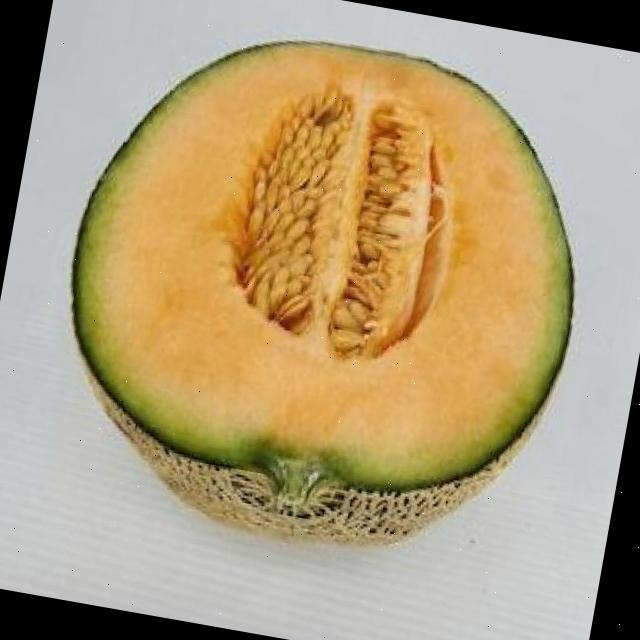Hami Melon: (32, 3, 608, 580)
